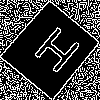H: (25, 24, 84, 83)
